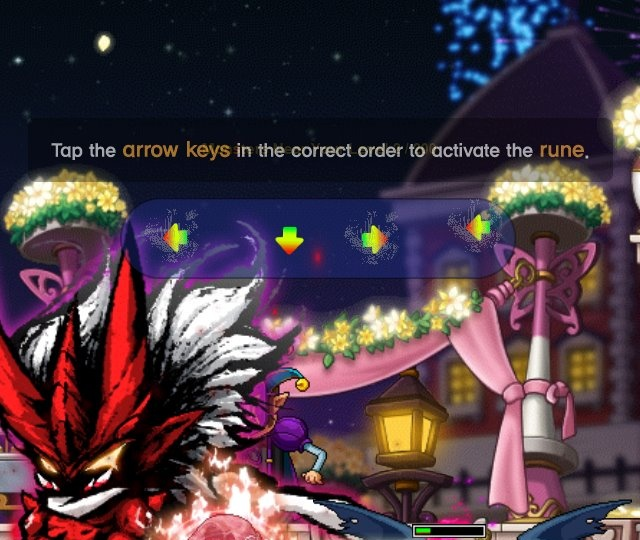rune_box: (110, 188, 527, 287)
